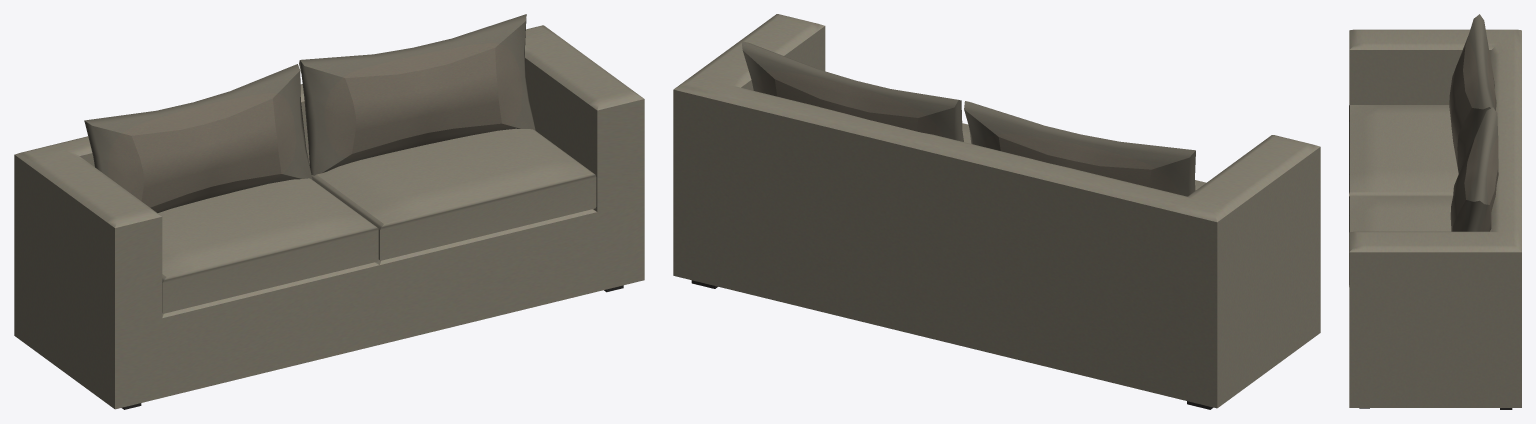
Rendered from Couch.fbx.
3 views of the same model, side by side, from view 1: azimuth 30°, elevation 25°; view 2: azimuth 150°, elevation 25°; view 3: azimuth 270°, elevation 25° (orthographic). The views are drawn at different scales.
Parts seen in each view (by area): view 1: pCube2, pCube4, pCube3; view 2: pCube2, pCube3, pCube4; view 3: pCube2, pCube3, pCube4.
Part boxes in pixels (x1,y1,x2,y2): pCube2: [14, 25, 644, 409]; pCube4: [299, 14, 535, 175]; pCube3: [84, 64, 312, 212]; pCube2: [673, 14, 1320, 409]; pCube3: [964, 101, 1195, 196]; pCube4: [741, 41, 963, 141]; pCube2: [1349, 29, 1521, 409]; pCube3: [1449, 14, 1496, 173]; pCube4: [1450, 107, 1498, 231].
Size of the model in its own units: 12.76 by 5.32 by 4.2.
